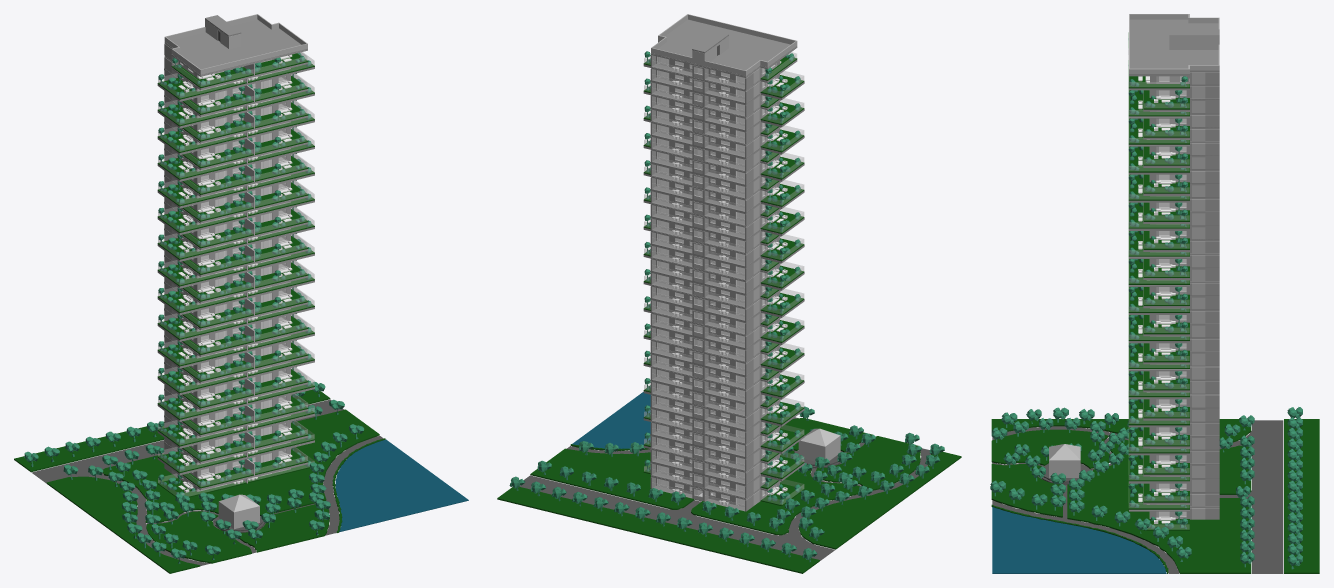
The model's file is residence.glb.
The picture shows the model from 3 angles, left to right: view 1: azimuth 30°, elevation 25°; view 2: azimuth 150°, elevation 25°; view 3: azimuth 270°, elevation 25°; orthographic projection. The views are drawn at different scales.
Parts seen in each view (by area): view 1: ground (×5), top (×2), 17F, 11F, 5F, 13F, 23F, 29F, 19F, 7F, 27F, 25F (+22 smaller); view 2: ground (×5), top (×2), 5F (×2), 23F (×2), 17F (×2), 15F (×2), 11F (×2), 29F (×2), 31F (×2), 21F (×2), 7F (×2), 27F (×2) (+21 smaller); view 3: ground (×5), top (×2), 10F, 8F, 4F, 30F, 6F, 2F, 28F, 22F, 26F, 24F (+9 smaller).
Part boxes in pixels (x1,y1,x2,y2): ground (×5): [14, 381, 468, 573]; top (×2): [164, 14, 307, 75]; 17F: [158, 234, 314, 284]; 11F: [158, 314, 314, 364]; 5F: [158, 394, 314, 444]; 13F: [158, 287, 314, 338]; 23F: [158, 154, 314, 204]; 29F: [158, 74, 314, 124]; 19F: [158, 207, 314, 258]; 7F: [158, 368, 314, 418]; 27F: [158, 101, 314, 151]; 25F: [158, 127, 314, 178]; ground (×5): [497, 392, 961, 573]; top (×2): [651, 14, 797, 76]; 5F (×2): [643, 418, 804, 457]; 23F (×2): [643, 173, 804, 212]; 17F (×2): [643, 255, 804, 294]; 15F (×2): [643, 282, 804, 321]; 11F (×2): [644, 336, 804, 376]; 29F (×2): [644, 91, 804, 130]; 31F (×2): [643, 64, 804, 103]; 21F (×2): [643, 200, 804, 239]; 7F (×2): [643, 391, 804, 430]; 27F (×2): [644, 119, 804, 158]; ground (×5): [990, 407, 1319, 573]; top (×2): [1129, 14, 1219, 74]; 10F: [1128, 369, 1189, 397]; 8F: [1128, 397, 1189, 425]; 4F: [1128, 453, 1189, 481]; 30F: [1128, 88, 1189, 116]; 6F: [1128, 425, 1189, 453]; 2F: [1128, 481, 1189, 509]; 28F: [1128, 116, 1189, 144]; 22F: [1128, 201, 1189, 228]; 26F: [1128, 145, 1189, 172]; 24F: [1128, 173, 1189, 200].
Bounding box in the file's own units: 68.82 × 96.67 × 62.08.
